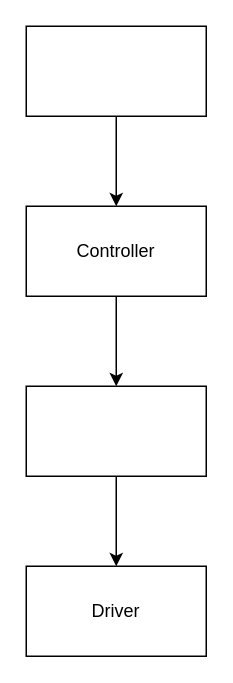
Image size: 233x683. Some labels were removed from this diagram. Each missing label, with the centre of its shape:
"Service" goes at point 115,430.
"View" goes at point 115,70.
